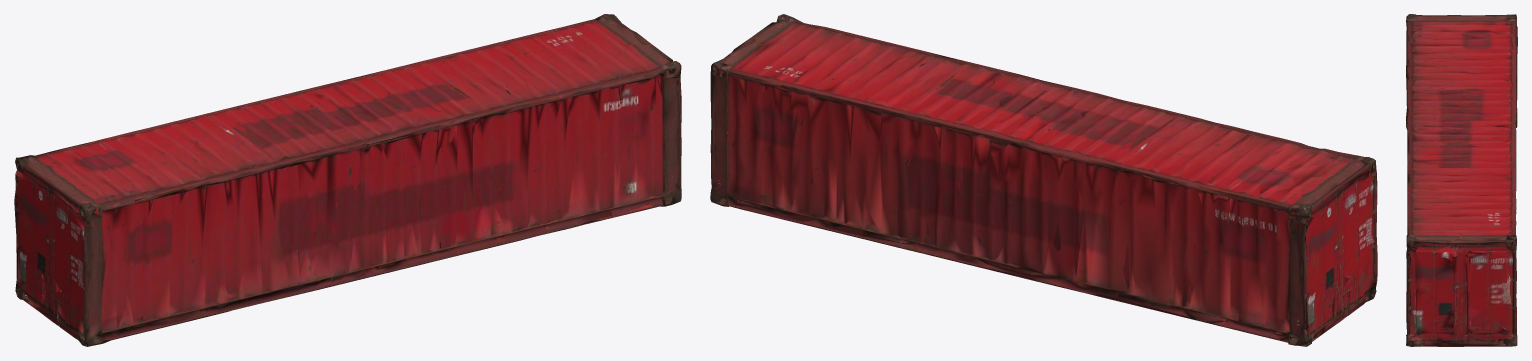
Rendered from container_red.glb.
The picture shows the model from 3 angles, left to right: view 1: azimuth 30°, elevation 25°; view 2: azimuth 150°, elevation 25°; view 3: azimuth 270°, elevation 25°; orthographic projection. The views are drawn at different scales.
Size of the model in its own units: 1.91 by 0.4231 by 0.3963.
Materials: 1 (1 with a texture image).
